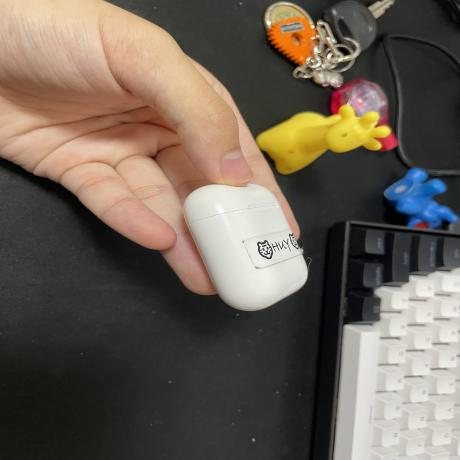airpod2: (172, 171, 323, 316)
